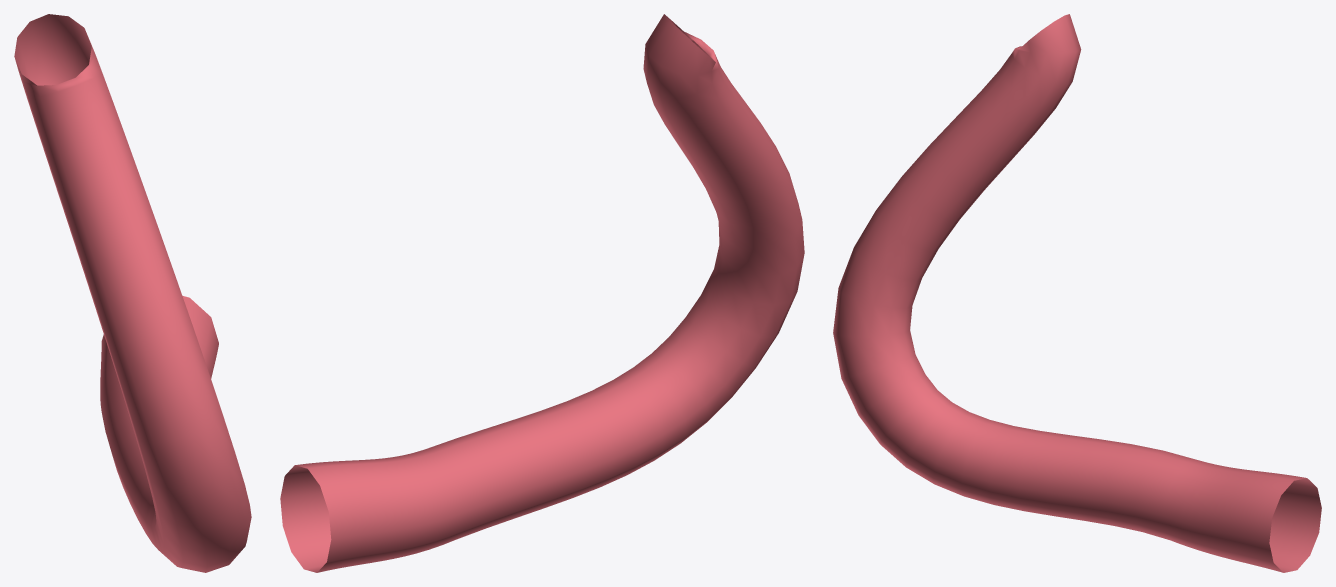
3 renders of one model, left to right at view 1: azimuth 30°, elevation 25°; view 2: azimuth 150°, elevation 25°; view 3: azimuth 270°, elevation 25°, orthographic. The views are drawn at different scales.
Visible parts, largest first — view 1: ZA_42fc7aec5543cf31; view 2: ZA_42fc7aec5543cf31; view 3: ZA_42fc7aec5543cf31.
Part boxes in pixels (left/top/right/bottom): ZA_42fc7aec5543cf31: left=14, top=14, right=251, bottom=572; ZA_42fc7aec5543cf31: left=280, top=14, right=804, bottom=572; ZA_42fc7aec5543cf31: left=833, top=14, right=1321, bottom=572.
Size of the model in its own units: 0.00975 by 0.0154 by 0.015.
